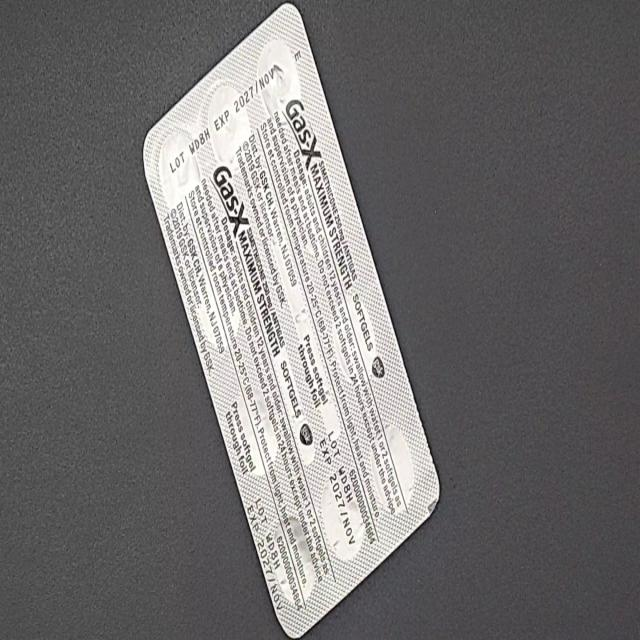no defect: (5, 6, 32, 54)
